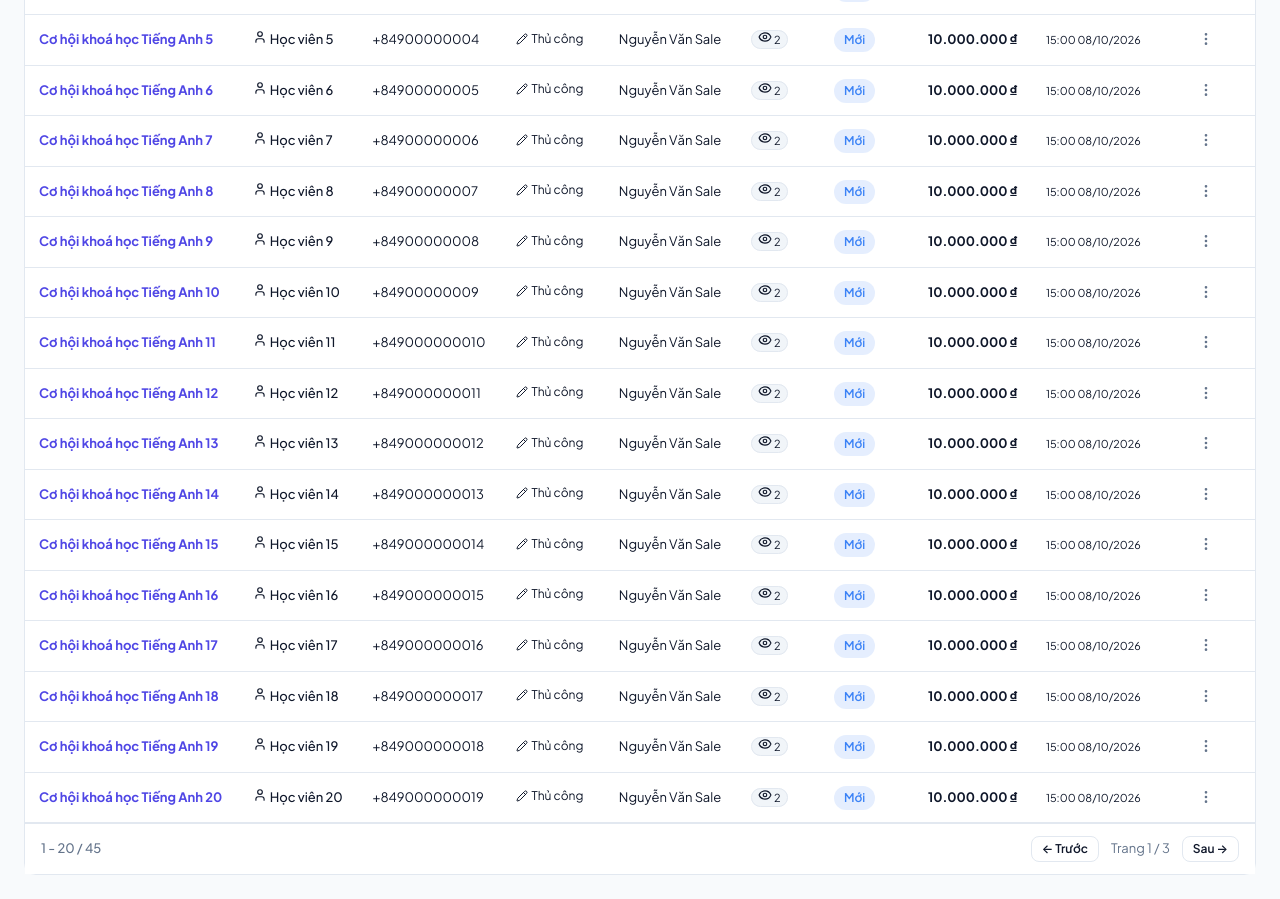
Scenario: AC fd9216b3 (a)(b)(d) — Opportunities Table & Header & Viewer & Customer Picker › AC fd9216b3 (b) — Bảng, Tabs, Hiển thị cột, Phân trang, Menu ⋮ › phân trang hiện "x - y / tổng" và gọi index kế
(page scrolled)
Expected: the text with test id "pagination-info" reads "1 - 20 / 45", [41,839,101,859]
Click the button with test id "btn-next-page" at (1210, 849), box [1182,836,1239,862]
(page scrolled)
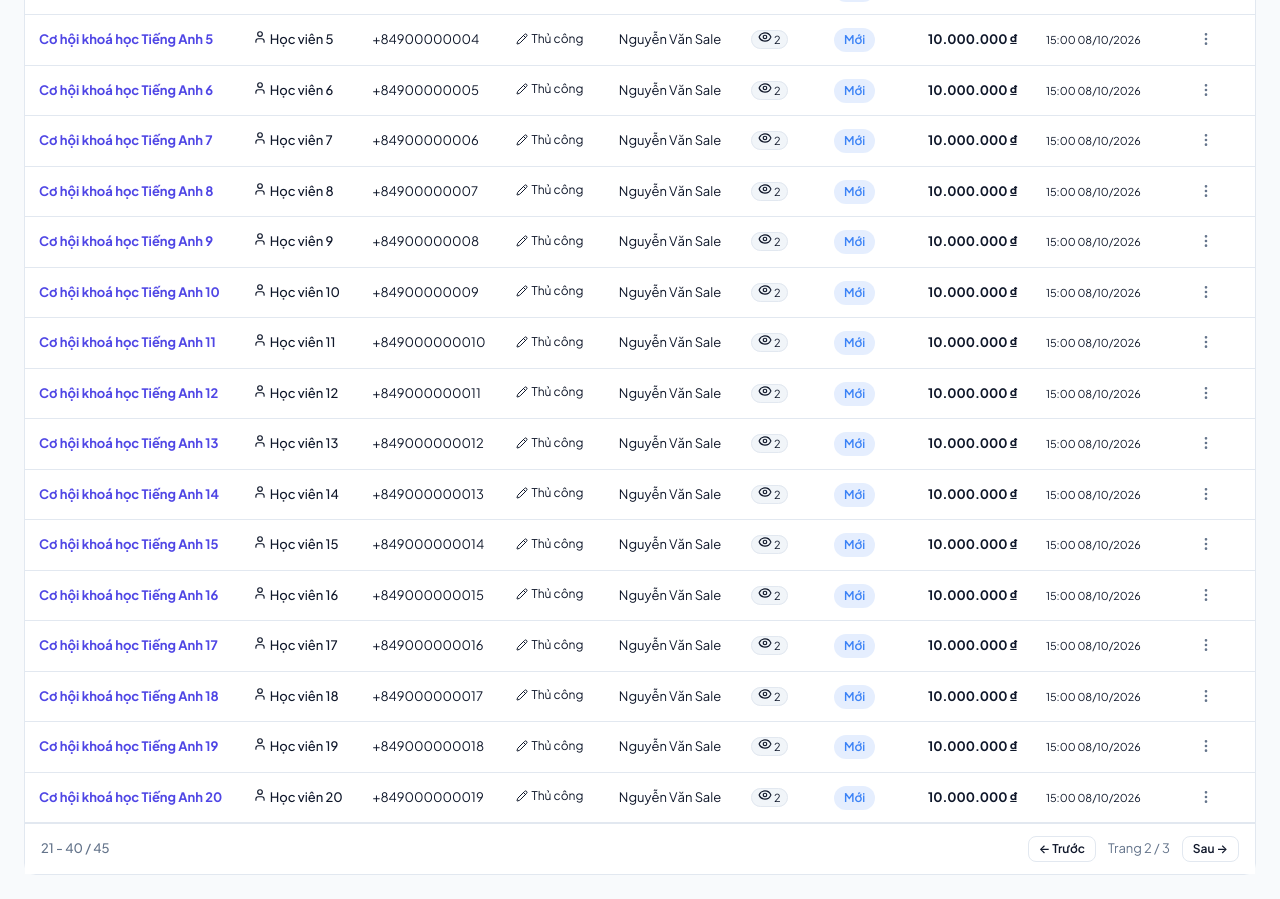
Expected: the text with test id "pagination-info" reads "21 - 40 / 45", [41,839,110,859]
